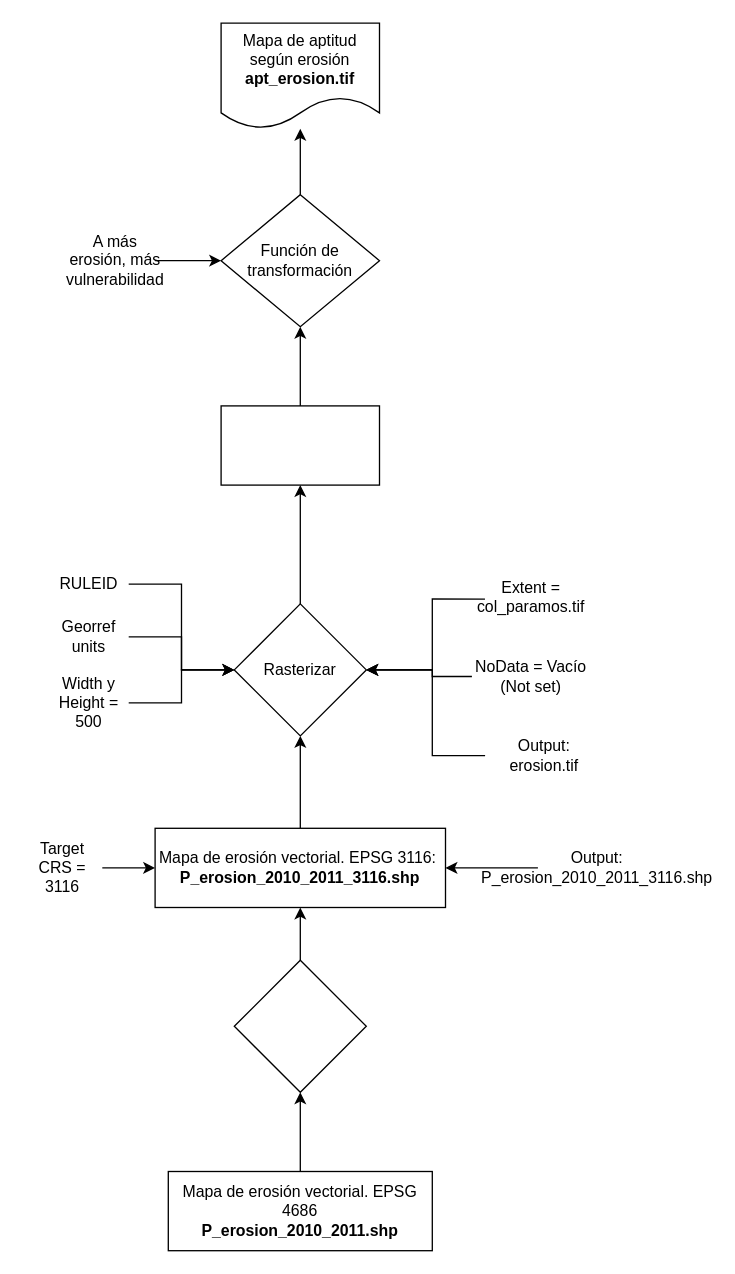
The diagram is 735 pixels wide and 1274 high, and some of its shapes have lost their labels. The box of each missing label's shape, as (x1, y1, x2, y2) in pixels:
Mapa de erosión raster: erosion.tif: (220, 405, 380, 485)
Reproyectar: (233, 959, 366, 1092)
